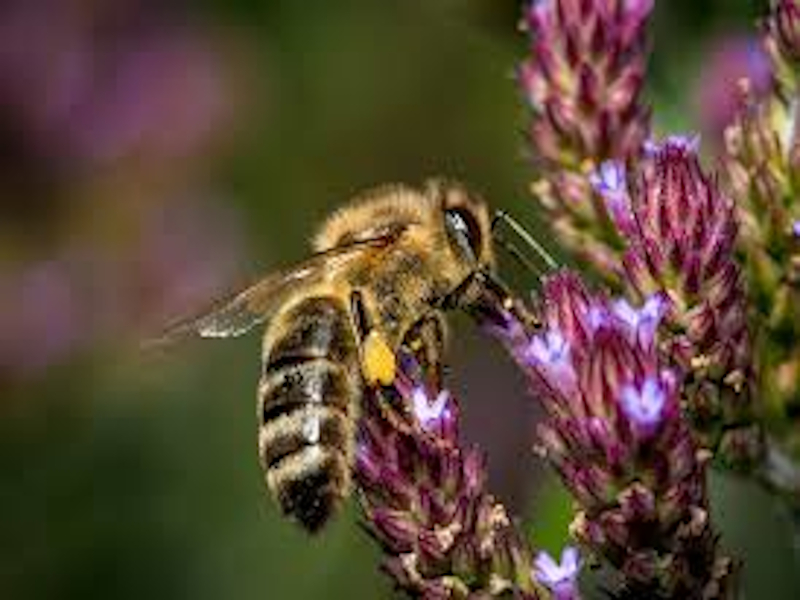abeja: (171, 161, 567, 542)
